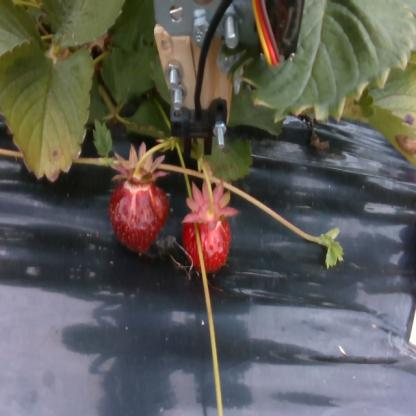ripe: (110, 182, 168, 254), (184, 206, 230, 272)
